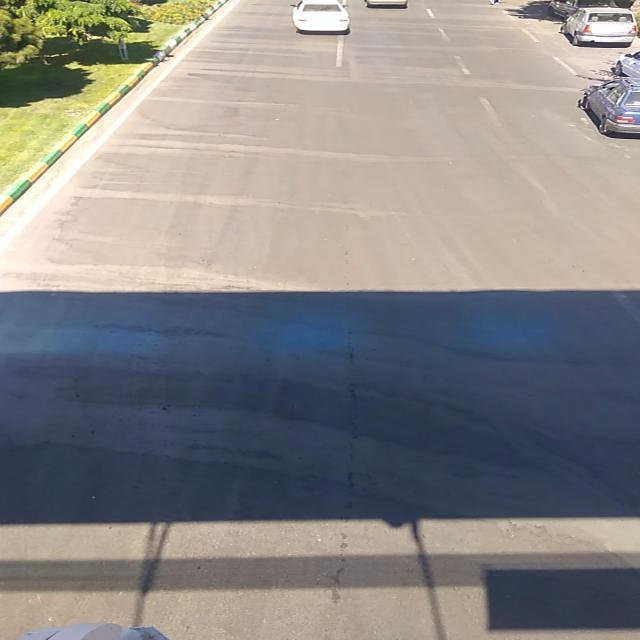car: (578, 77, 638, 136), (559, 8, 636, 46), (289, 2, 349, 30)
